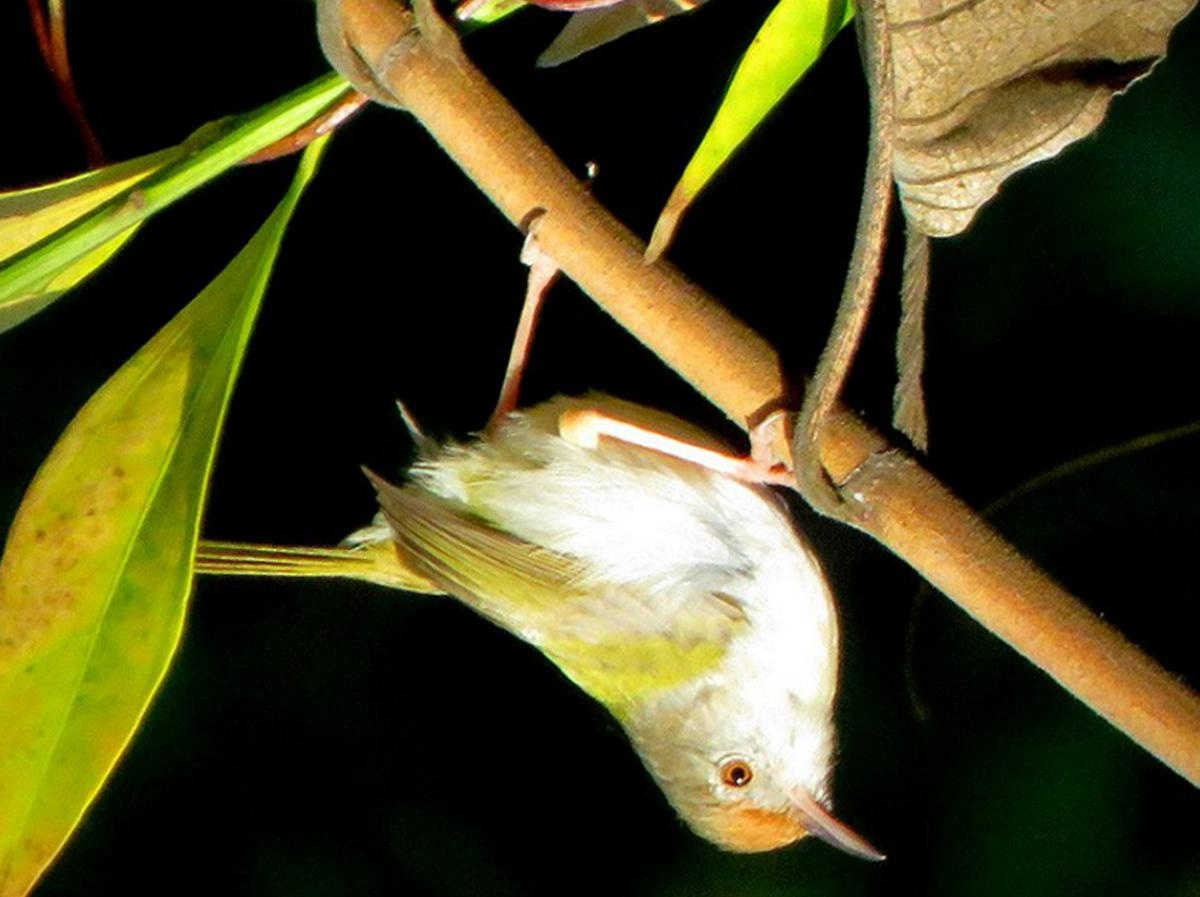tailorbird: (176, 363, 929, 865)
